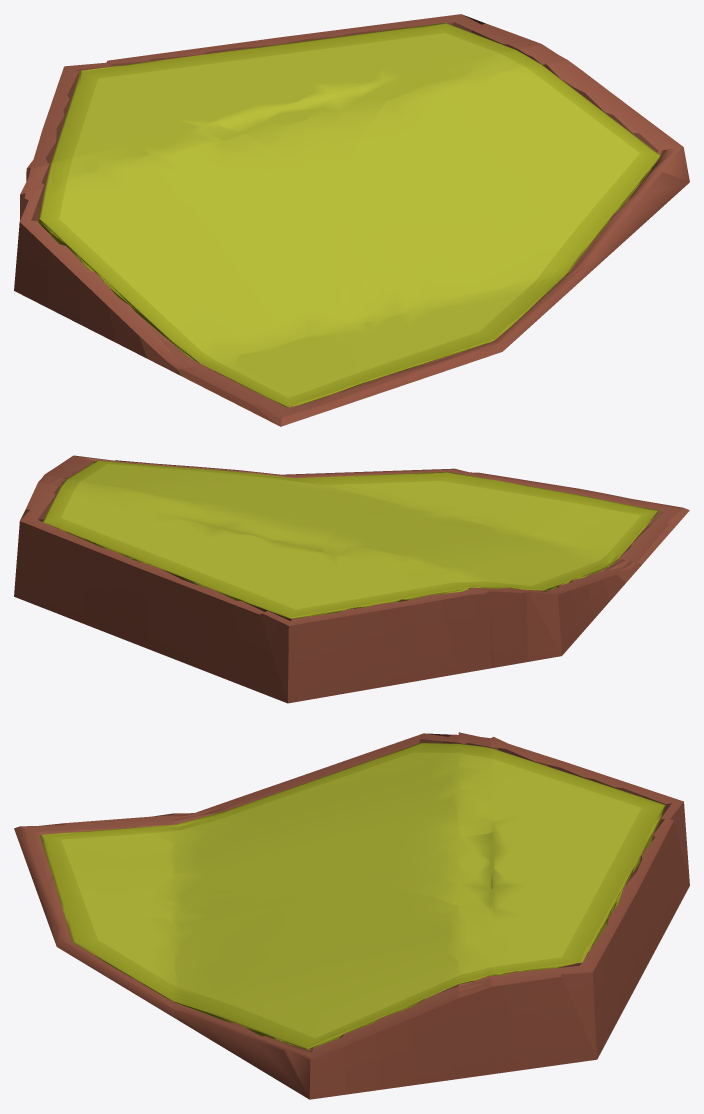
File: ADAPTED_HILL_ATTACHMENT.glb
3 renders of one model, top to bottom at view 1: azimuth 30°, elevation 25°; view 2: azimuth 150°, elevation 25°; view 3: azimuth 270°, elevation 25°, orthographic. The views are drawn at different scales.
Parts seen in each view (by area): view 1: ATTACH_R1_ADAPTED_KAYKIT_HILL; view 2: ATTACH_R1_ADAPTED_KAYKIT_HILL; view 3: ATTACH_R1_ADAPTED_KAYKIT_HILL.
Part boxes in pixels (box(x1,y1,x2,y2)): ATTACH_R1_ADAPTED_KAYKIT_HILL: box(14, 14, 689, 426); ATTACH_R1_ADAPTED_KAYKIT_HILL: box(14, 455, 689, 703); ATTACH_R1_ADAPTED_KAYKIT_HILL: box(14, 732, 689, 1099).
Bounding box in the file's own units: 40 × 5.28 × 38.
1 material, 1 textured.
